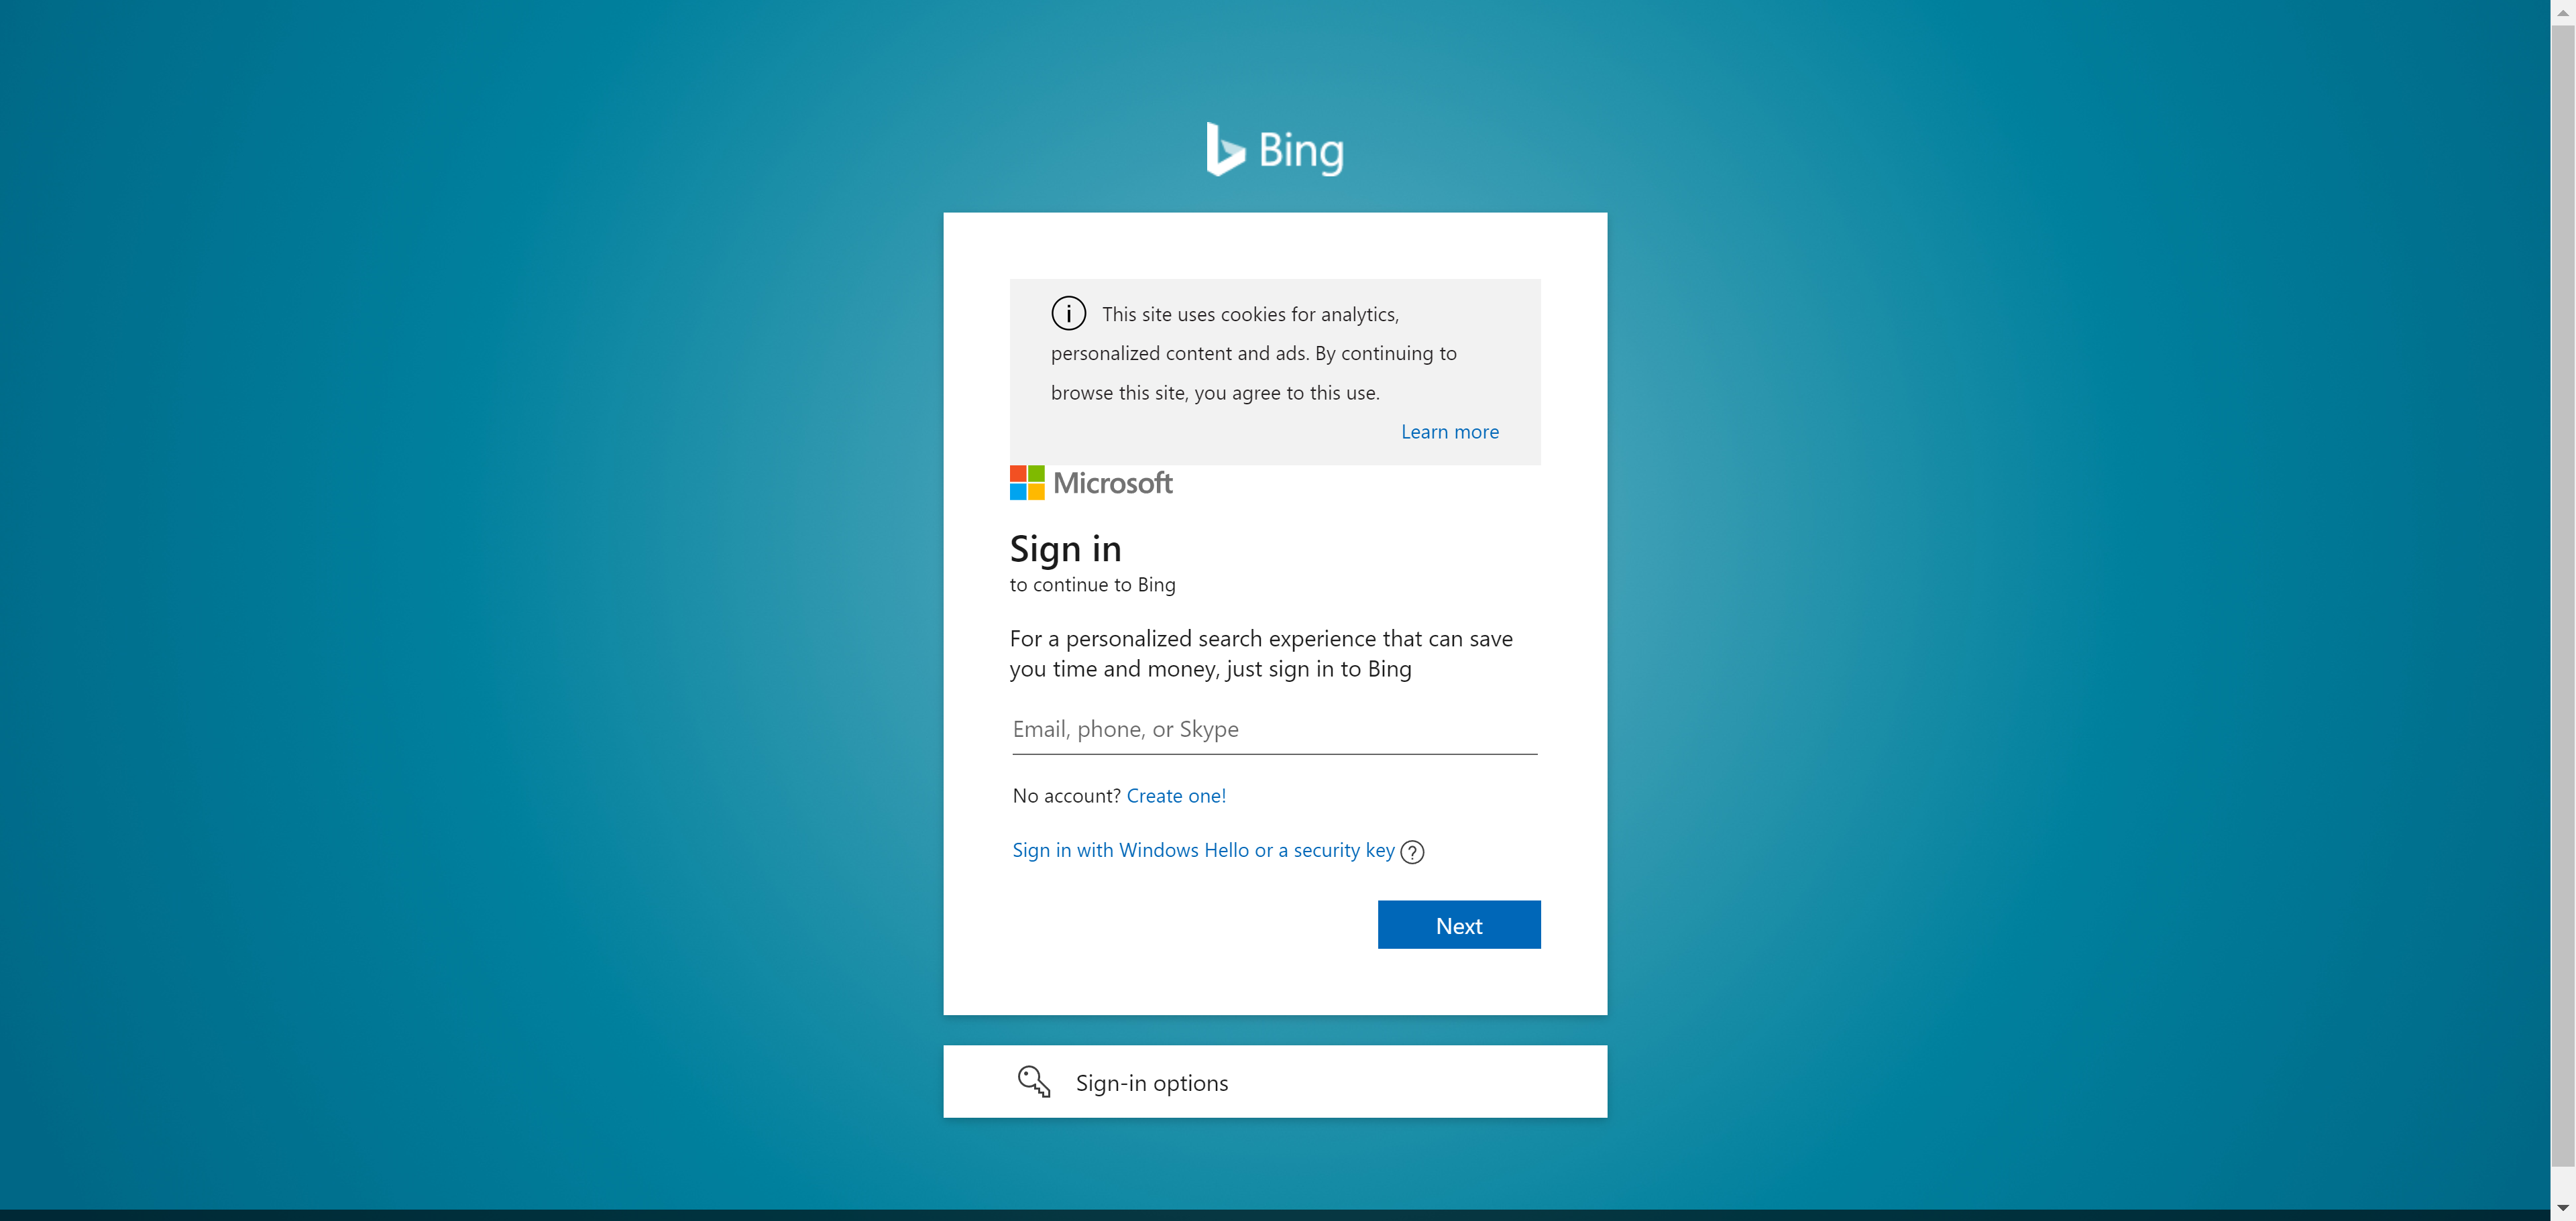login_button: (1378, 901, 1543, 950)
login_form: (1002, 700, 1552, 958)
